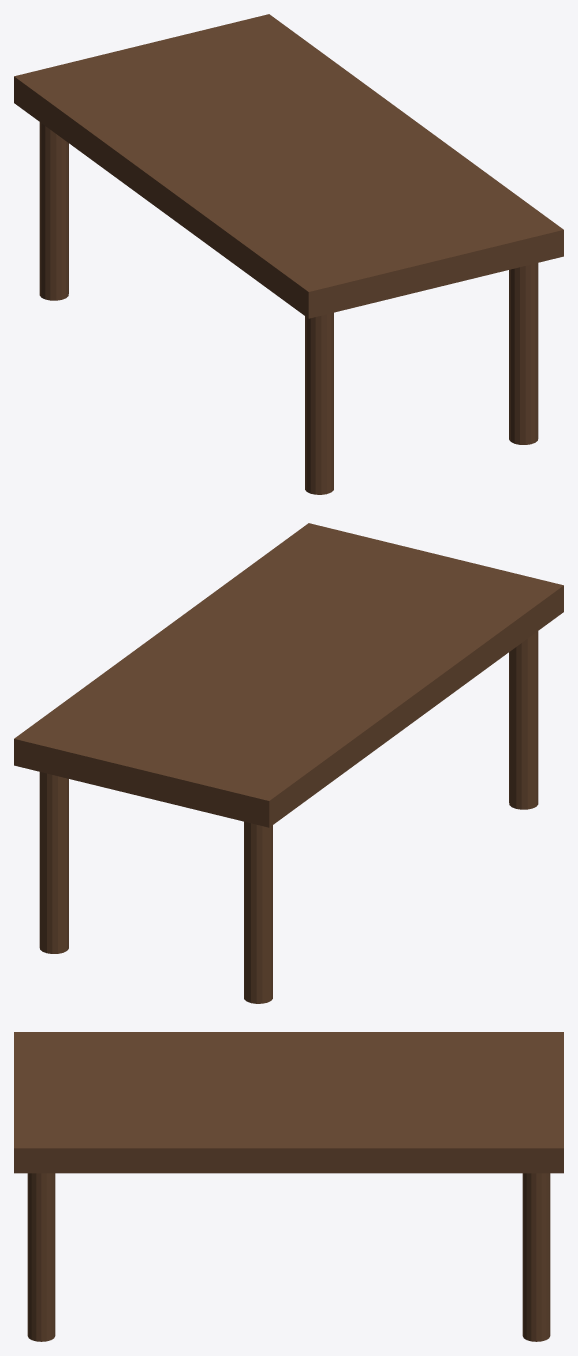
File: desk.fbx
3 renders of one model, top to bottom at view 1: azimuth 30°, elevation 25°; view 2: azimuth 150°, elevation 25°; view 3: azimuth 270°, elevation 25°, orthographic. The views are drawn at different scales.
Parts seen in each view (by area): view 1: Cube, Cylinder; view 2: Cube, Cylinder; view 3: Cube, Cylinder.
Boxes of the visible parts, x1,y1,x2,y2 form: Cube: (14, 14, 563, 318); Cylinder: (39, 122, 538, 494); Cube: (14, 523, 563, 827); Cylinder: (39, 631, 538, 1003); Cube: (14, 1032, 563, 1173); Cylinder: (27, 1173, 550, 1341).
Size of the model in its own units: 200 by 160 by 400.
